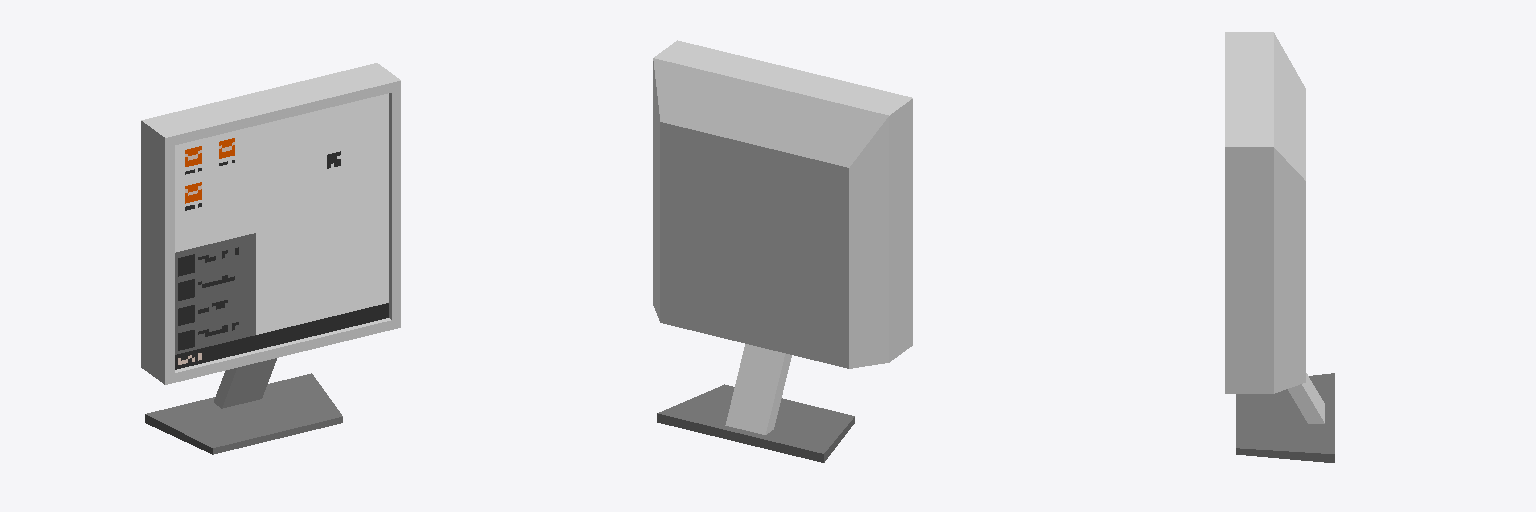
3 views of the same model, side by side, from view 1: azimuth 30°, elevation 25°; view 2: azimuth 150°, elevation 25°; view 3: azimuth 270°, elevation 25° (orthographic).
Parts seen in each view (by area): view 1: Computer_Monitor; view 2: Computer_Monitor; view 3: Computer_Monitor.
Part boxes in pixels (bbox=[...]): Computer_Monitor: bbox=[141, 63, 400, 454]; Computer_Monitor: bbox=[653, 40, 912, 462]; Computer_Monitor: bbox=[1225, 32, 1334, 462].
Size of the model in its own units: 0.4 by 0.5399 by 0.1608.
2 materials, 2 textured.